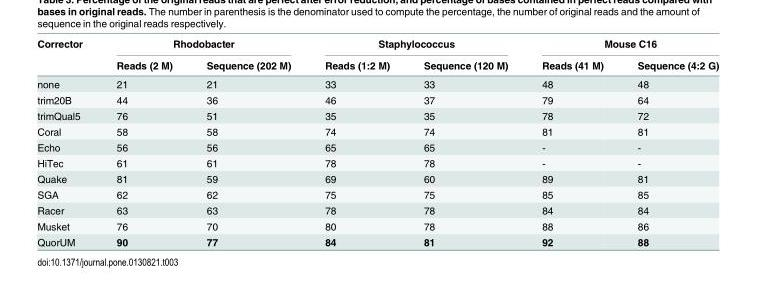table: (36, 37, 718, 247)
table column: (188, 37, 307, 247), (405, 37, 524, 247), (619, 37, 718, 247), (307, 37, 405, 247), (524, 37, 619, 247), (98, 37, 188, 247), (36, 37, 98, 247)
table column header: (36, 37, 718, 74)
table row: (36, 53, 718, 74), (36, 74, 718, 91), (36, 37, 718, 53), (36, 91, 718, 107), (36, 107, 718, 123), (36, 123, 718, 139), (36, 154, 718, 170), (36, 170, 718, 186), (36, 186, 718, 202), (36, 217, 718, 233), (36, 139, 718, 154), (36, 202, 718, 217), (36, 233, 718, 247)
table spanning cell: (307, 37, 524, 53), (98, 37, 307, 53), (524, 37, 718, 53), (36, 37, 98, 74)
